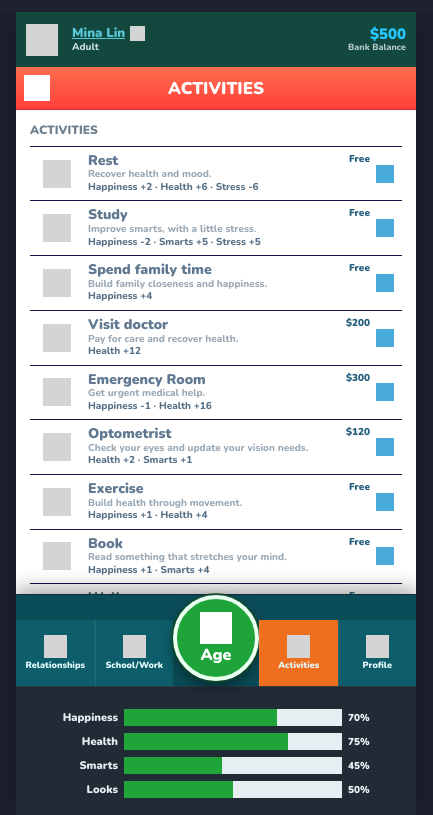
it: App › records activity results in the central life timeline
What coordinates should you click on to do the following:
click the button "Rest"
I would click on:
 (103, 160)
Its box is [30, 147, 402, 202].
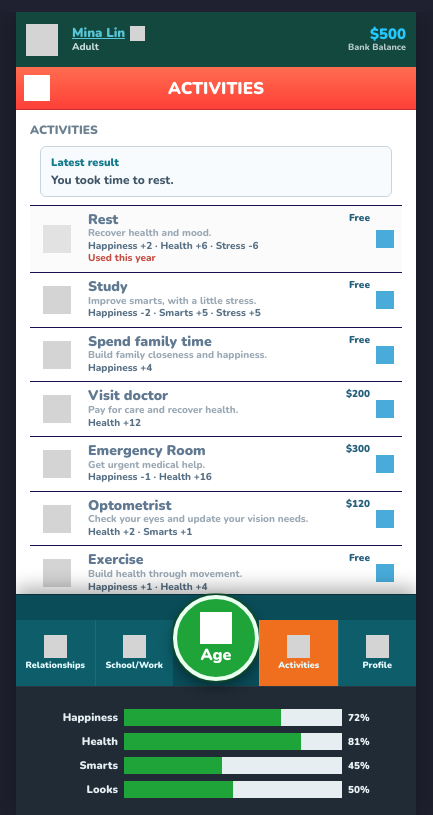
What coordinates should you click on to do the following:
click the button named "Life"
I would click on:
 (37, 88)
Its box is [16, 67, 58, 109].
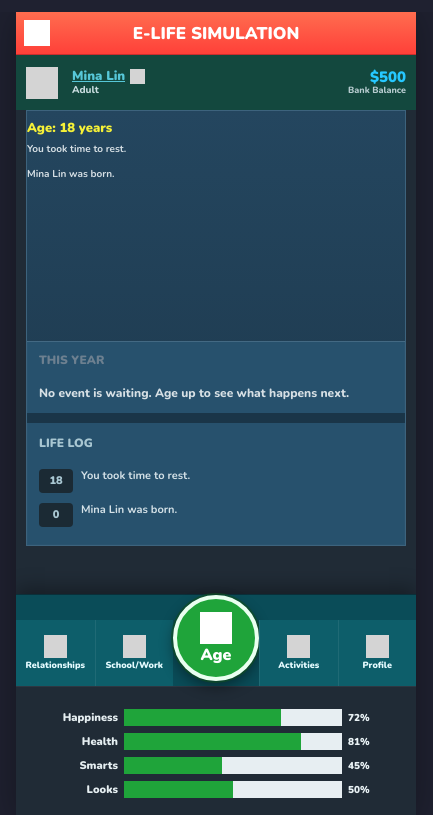
Expected: the list item "You took time to rest." is shown, [81, 468, 190, 483]
